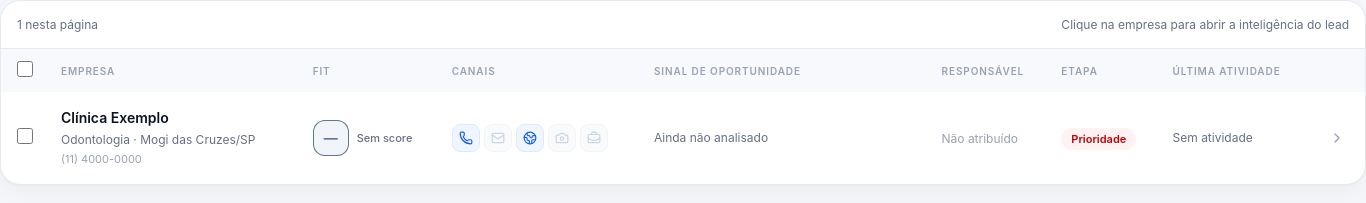
Scenario: LeadTable › selects visible rows and reports the selection count
The width and height of the screenshot is (1366, 203).
Click the checkbox named "Selecionar Clínica Exemplo" at coordinates (25, 136), box [17,128,33,144]
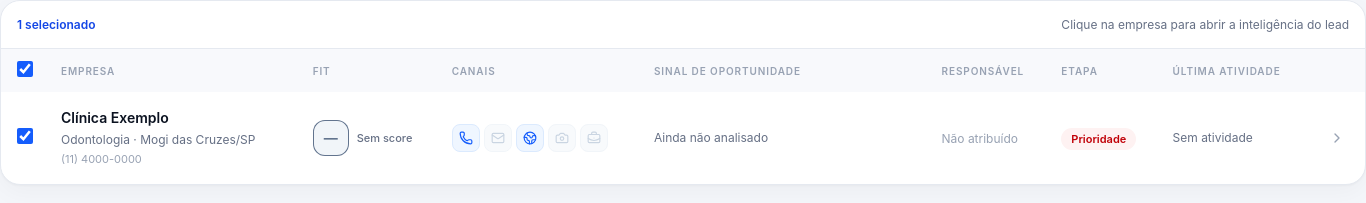
Expected: the text "1 selecionado" is shown, [17,16,96,32]
